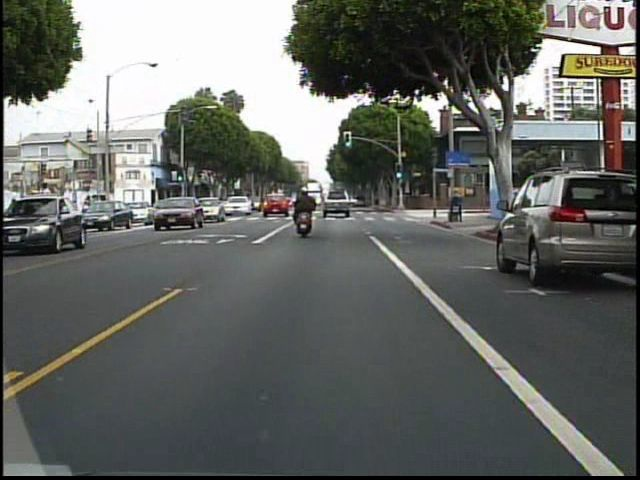person: (290, 182, 322, 236)
